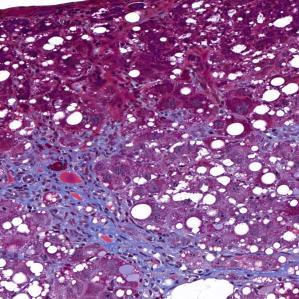fibrosis: (4, 149, 115, 231), (104, 217, 229, 280), (243, 255, 299, 288)
